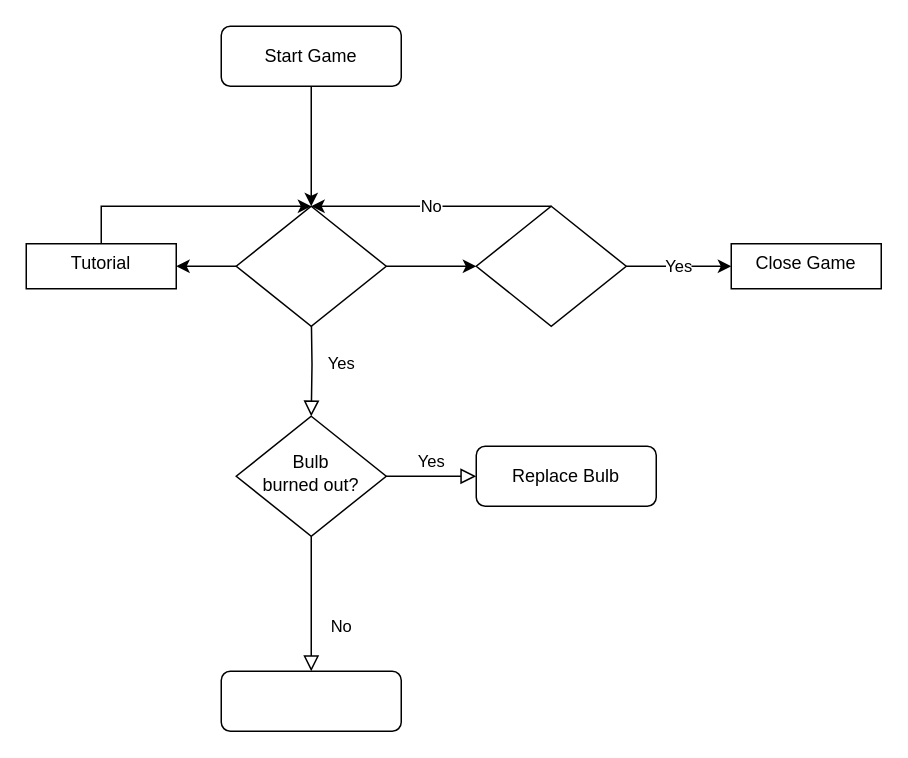
Image size: 908x758. Some labels were removed from this diagram. The centre of each missing label's shape, as x and y in pixels:
"Menu" belongs at [310,265].
"Quit Game?" belongs at [550,265].
"Repair Lamp" belongs at [310,700].
